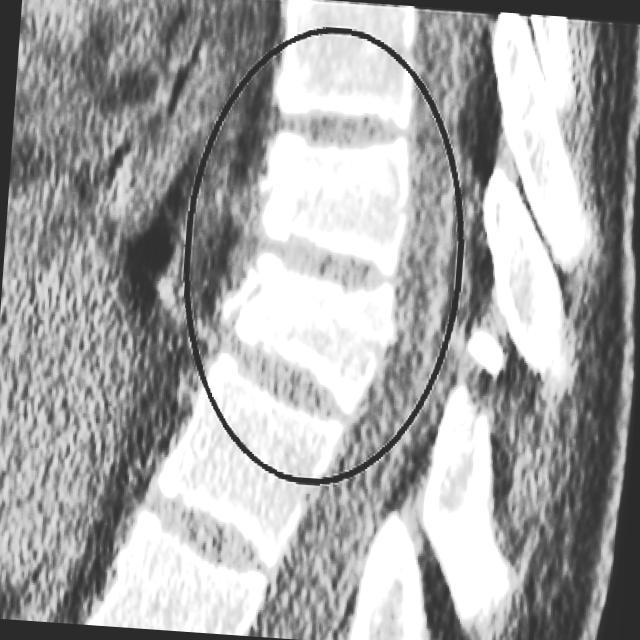Compression-Crush Fracutre: (216, 244, 406, 422), (228, 132, 439, 283)
